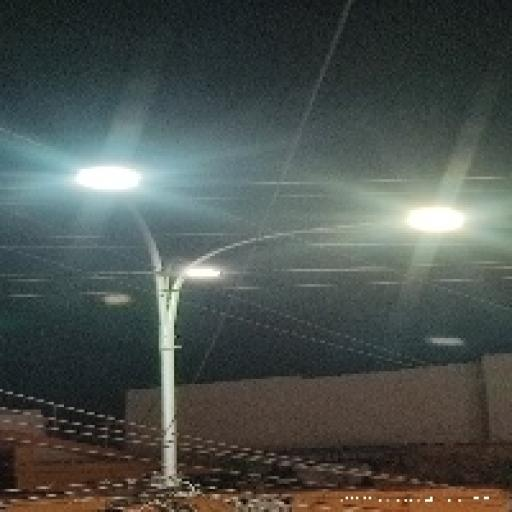Working: (58, 153, 152, 213), (392, 194, 474, 248), (164, 254, 234, 296)
